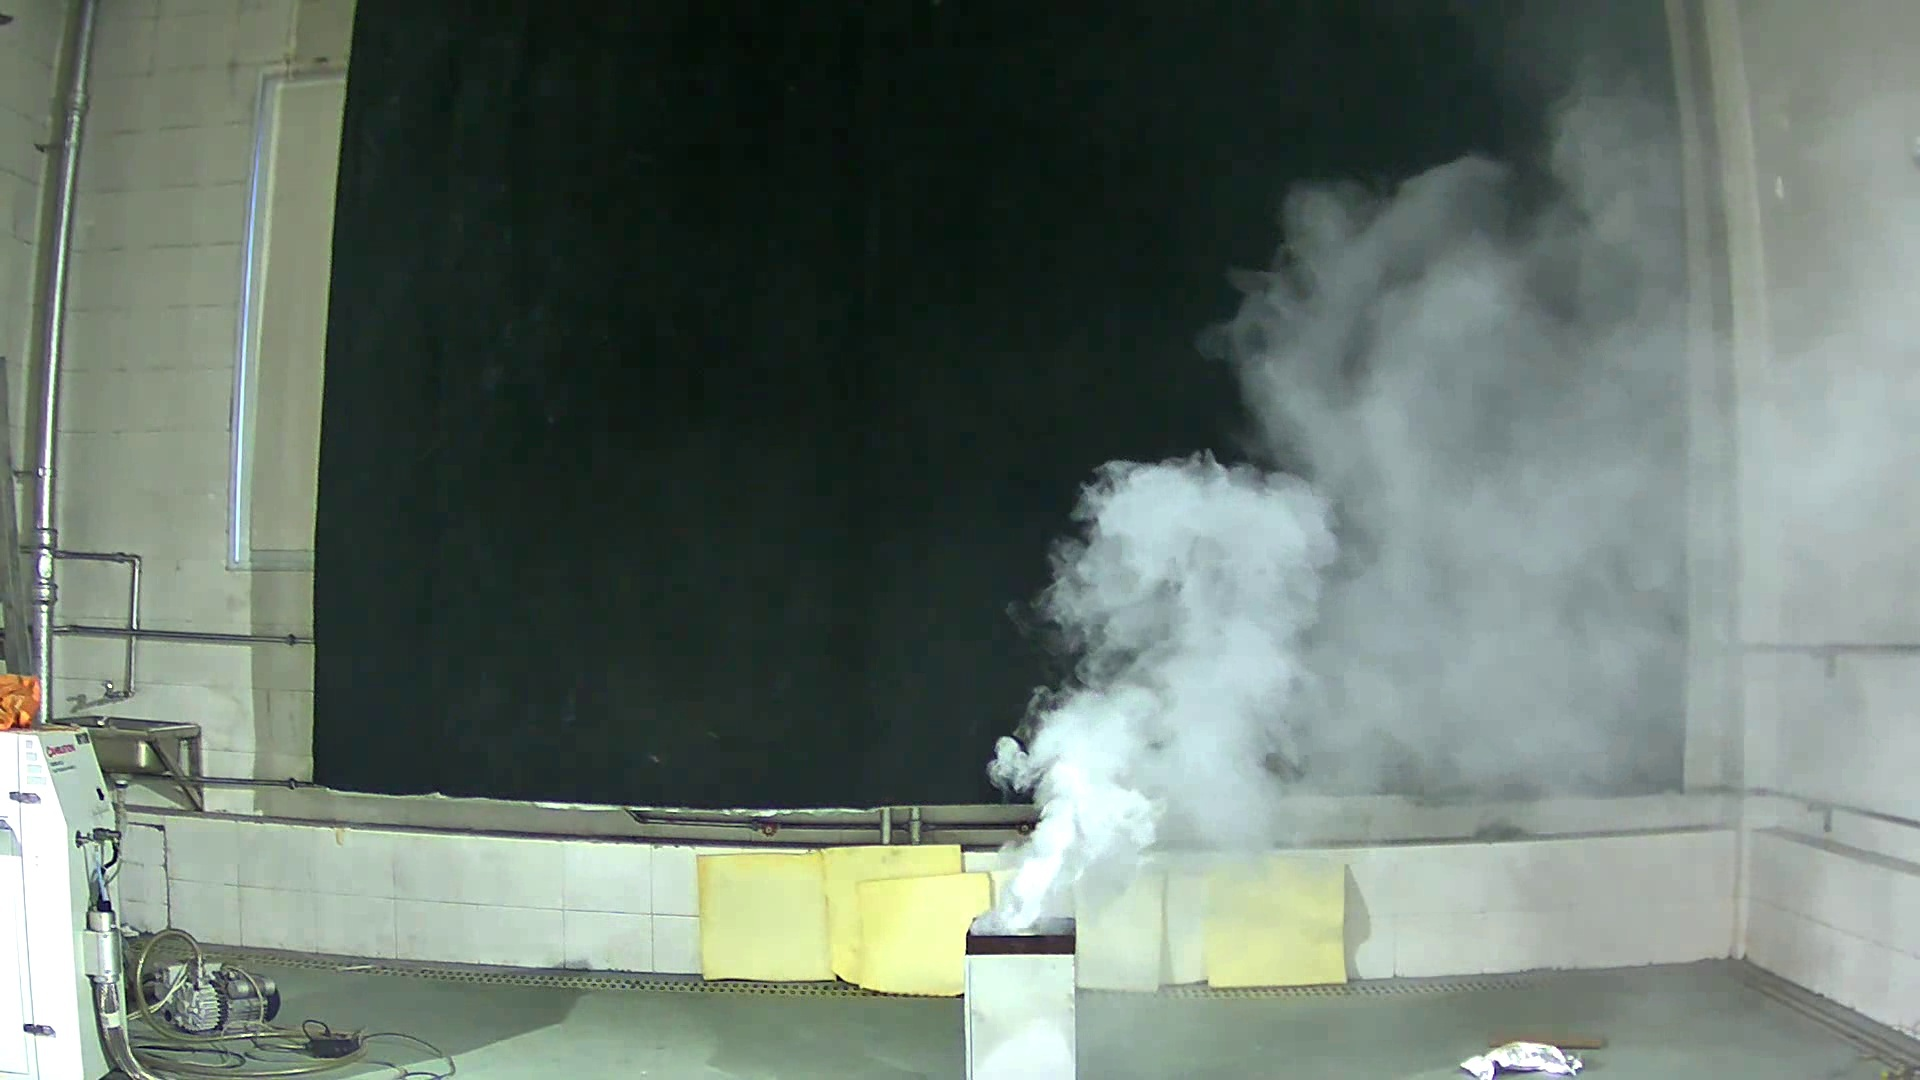smoke: (948, 127, 1644, 928)
